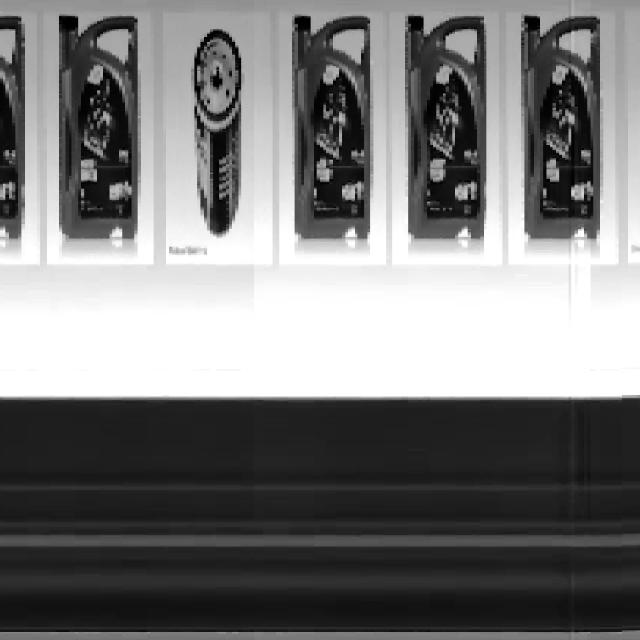motor_oil: (404, 7, 492, 248), (520, 5, 605, 252), (56, 8, 141, 254), (291, 7, 375, 246)
oil_filter: (191, 22, 246, 240)
